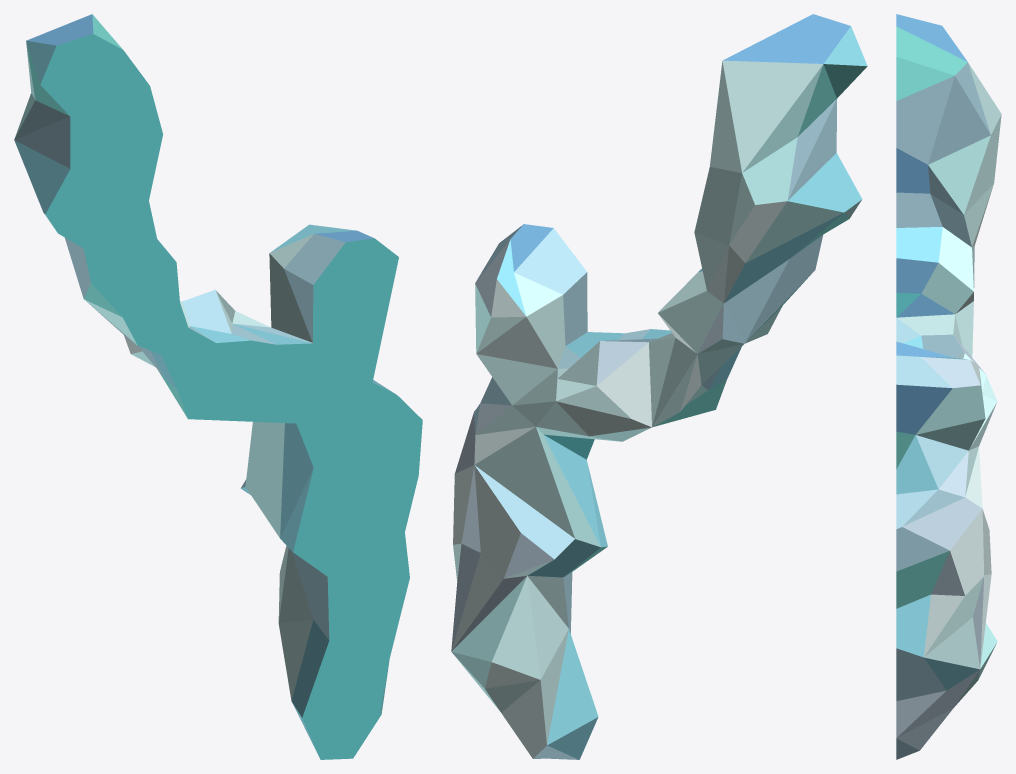
Rendered from winter_mountain_6.fbx.
3 renders of one model, left to right at view 1: azimuth 30°, elevation 25°; view 2: azimuth 150°, elevation 25°; view 3: azimuth 270°, elevation 25°, orthographic. The views are drawn at different scales.
Parts seen in each view (by area): view 1: winter_mountain_6; view 2: winter_mountain_6; view 3: winter_mountain_6.
Part boxes in pixels (<box>): winter_mountain_6: <box>14,14,422,759</box>; winter_mountain_6: <box>451,14,867,759</box>; winter_mountain_6: <box>896,14,1001,759</box>.
Size of the model in its own units: 628 by 1237 by 187.
